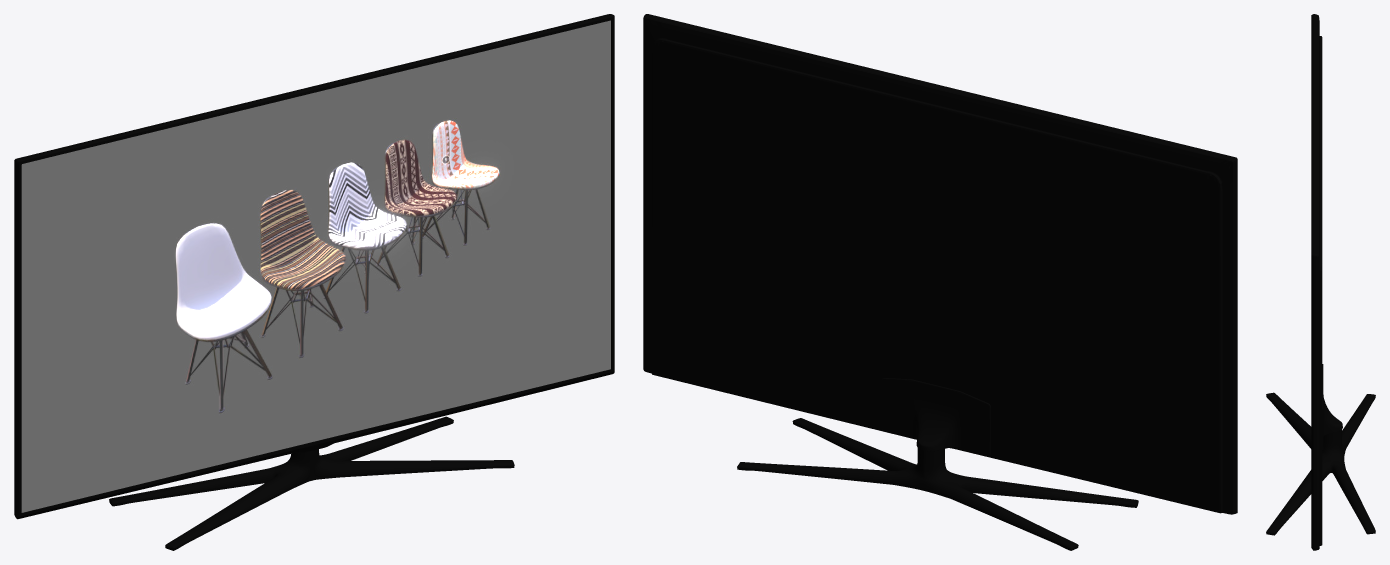
File: tv-samsung.glb
The picture shows the model from 3 angles, left to right: view 1: azimuth 30°, elevation 25°; view 2: azimuth 150°, elevation 25°; view 3: azimuth 270°, elevation 25°; orthographic projection. The views are drawn at different scales.
Parts seen in each view (by area): view 1: Object_3; view 2: Object_3; view 3: Object_3.
Boxes of the visible parts, bbox=[...] form: Object_3: bbox=[14, 14, 614, 550]; Object_3: bbox=[643, 14, 1237, 550]; Object_3: bbox=[1266, 14, 1375, 550].
Size of the model in its own units: 1.58 by 1.01 by 0.3026.
1 material, 1 textured.
